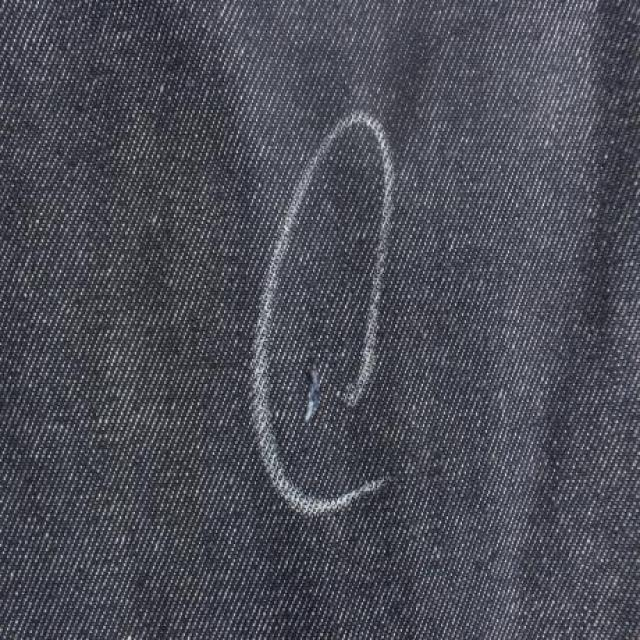Thread_other: (274, 332, 368, 460)
